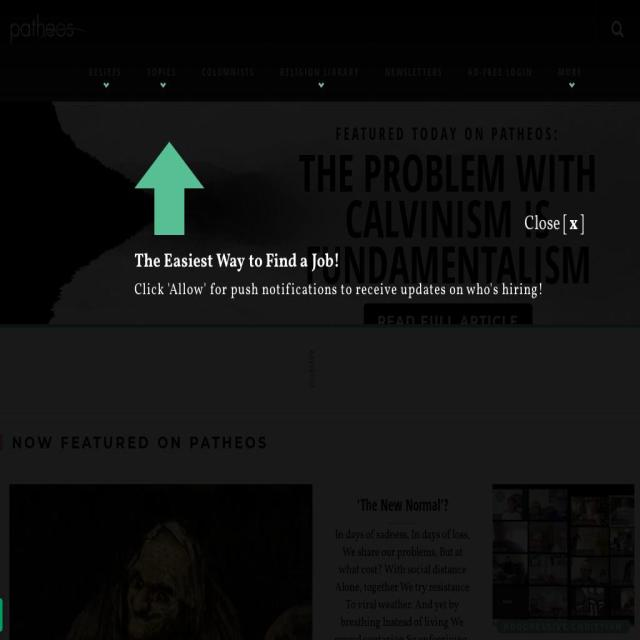button: (288, 124, 608, 298), (363, 302, 533, 340), (267, 42, 372, 102), (455, 42, 545, 102), (372, 42, 455, 102), (189, 42, 267, 102), (0, 0, 99, 41), (75, 42, 134, 102), (134, 42, 188, 102), (545, 42, 595, 102), (497, 619, 630, 633), (563, 626, 564, 626)
image: (0, 102, 640, 325), (9, 484, 394, 640), (492, 484, 634, 627), (134, 142, 204, 235), (10, 13, 89, 45)
link: (356, 494, 448, 517)
text: (298, 136, 598, 298), (334, 526, 470, 640), (0, 434, 640, 452), (135, 252, 584, 272), (135, 280, 584, 299), (288, 124, 608, 142), (585, 0, 640, 60), (524, 210, 568, 238), (568, 210, 580, 238), (580, 210, 584, 238)
